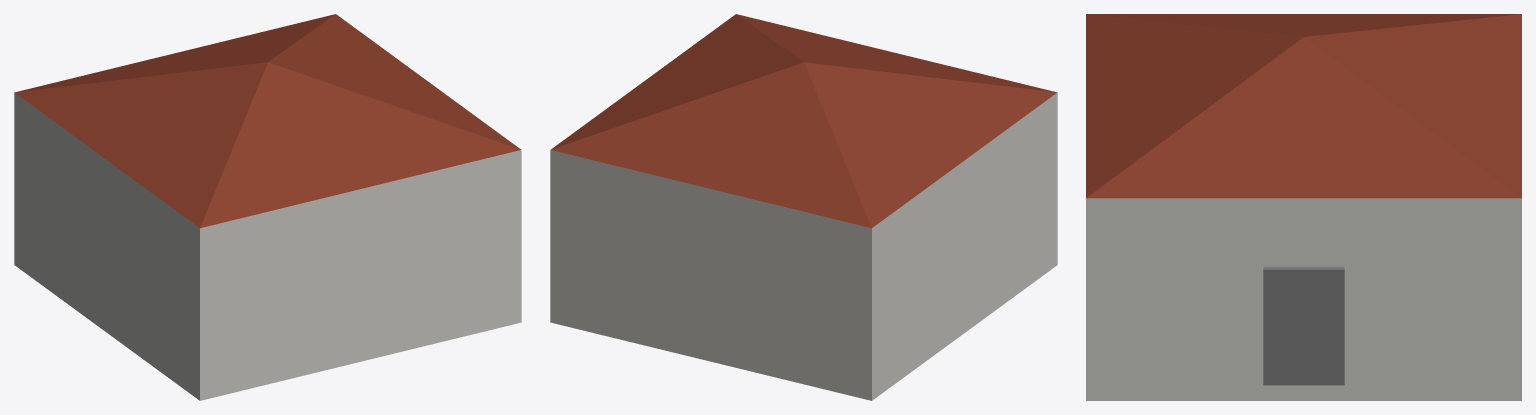
Rendered from house_2.glb.
3 renders of one model, left to right at view 1: azimuth 30°, elevation 25°; view 2: azimuth 150°, elevation 25°; view 3: azimuth 270°, elevation 25°, orthographic. The views are drawn at different scales.
Parts seen in each view (by area): view 1: base, roof; view 2: base, roof; view 3: roof, base, door.
Boxes of the visible parts, left/top/right/bottom form: base: left=14, top=92, right=521, bottom=400; roof: left=15, top=14, right=520, bottom=228; base: left=550, top=92, right=1057, bottom=400; roof: left=551, top=14, right=1056, bottom=228; roof: left=1086, top=14, right=1521, bottom=198; base: left=1086, top=198, right=1521, bottom=400; door: left=1263, top=266, right=1344, bottom=385.
Bounding box in the file's own units: 0.7619 × 0.5163 × 0.75.
